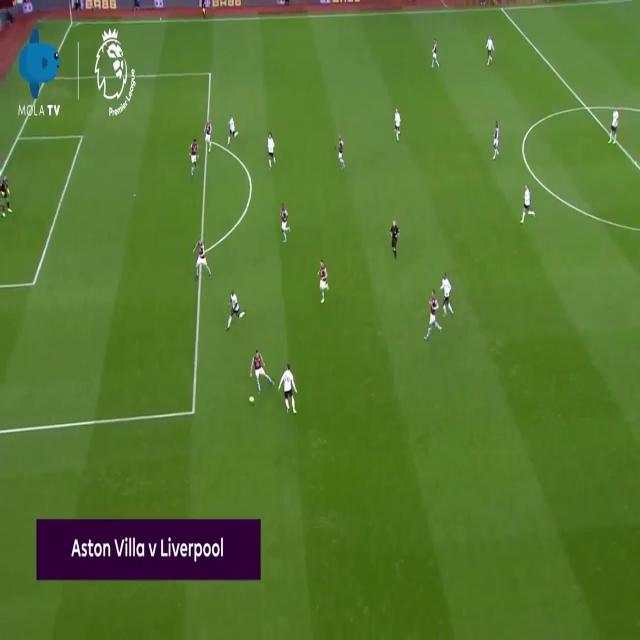ball: (248, 396, 254, 404)
team1: (426, 289, 444, 338), (250, 351, 268, 398), (192, 239, 212, 281), (317, 256, 331, 304), (278, 200, 290, 244), (190, 139, 200, 179), (338, 134, 348, 170), (203, 121, 212, 154), (492, 120, 499, 162), (432, 40, 440, 68)
team2: (282, 362, 298, 416), (440, 271, 455, 315), (228, 289, 243, 331), (520, 185, 535, 226), (608, 109, 620, 147), (266, 129, 276, 170), (226, 113, 237, 145), (394, 106, 403, 140), (487, 36, 496, 64)
